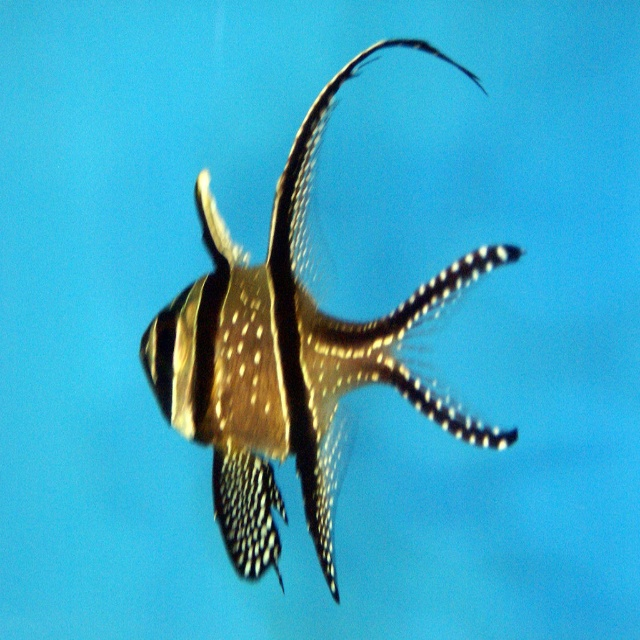Fish: (150, 26, 538, 625)
